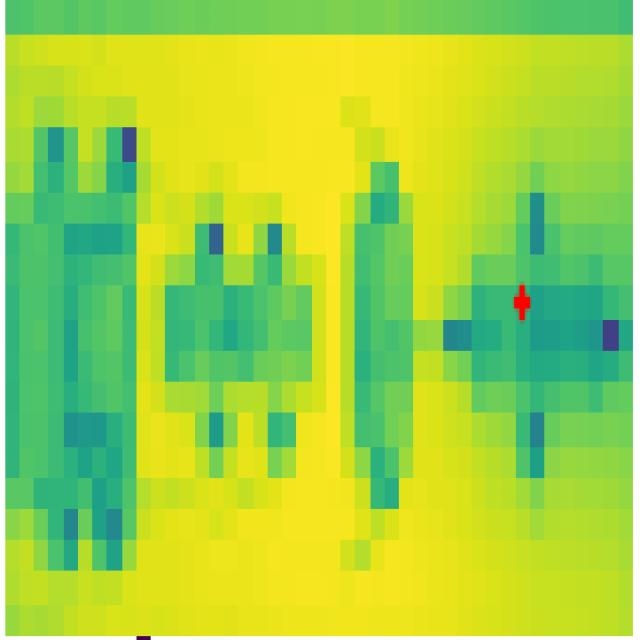Concrete: (15, 196, 144, 505)
Glass: (473, 255, 603, 414)
Metal: (162, 262, 317, 409)
Wood: (344, 192, 419, 469)
